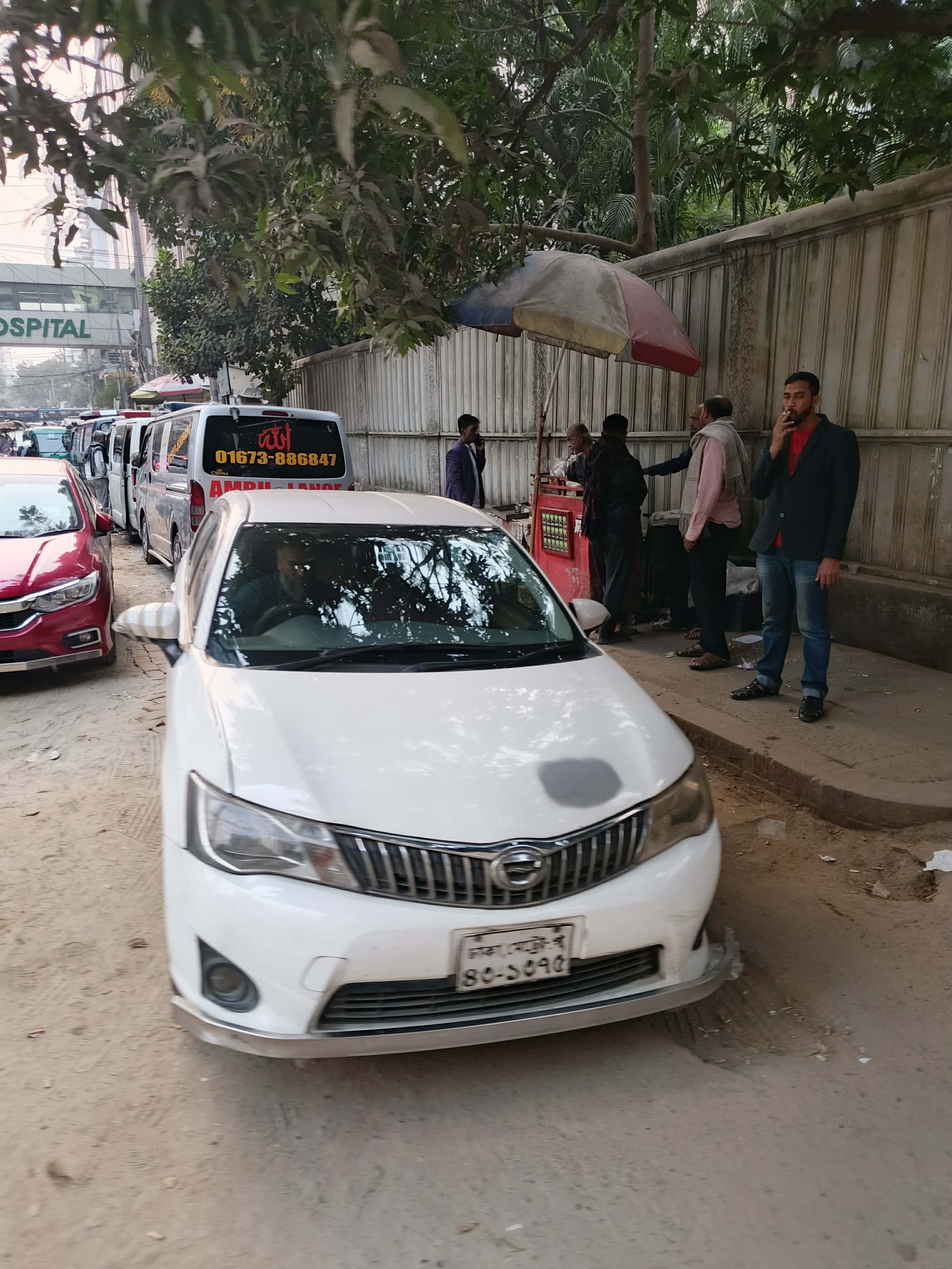private car: (131, 473, 750, 1070)
